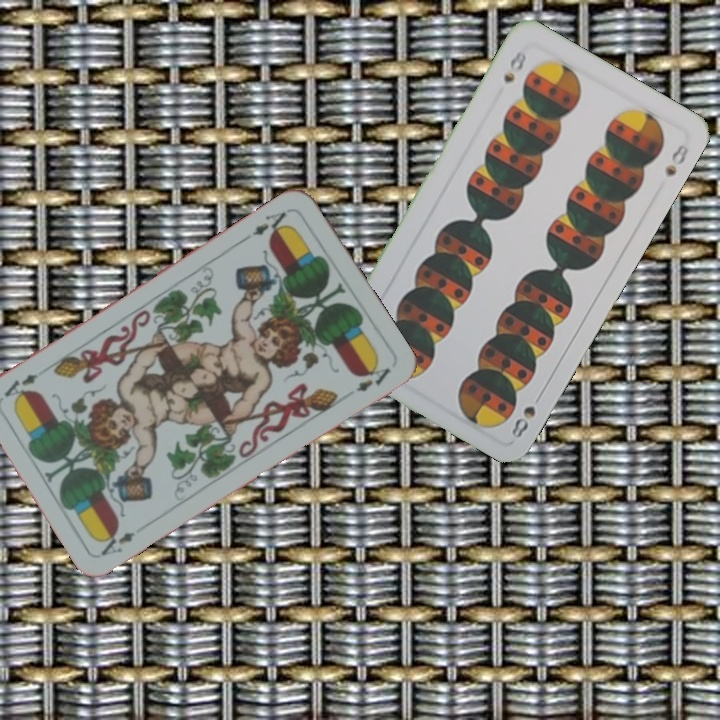EA: (240, 207, 292, 243), (96, 525, 138, 558)
S8: (507, 387, 546, 441), (499, 46, 529, 86)
